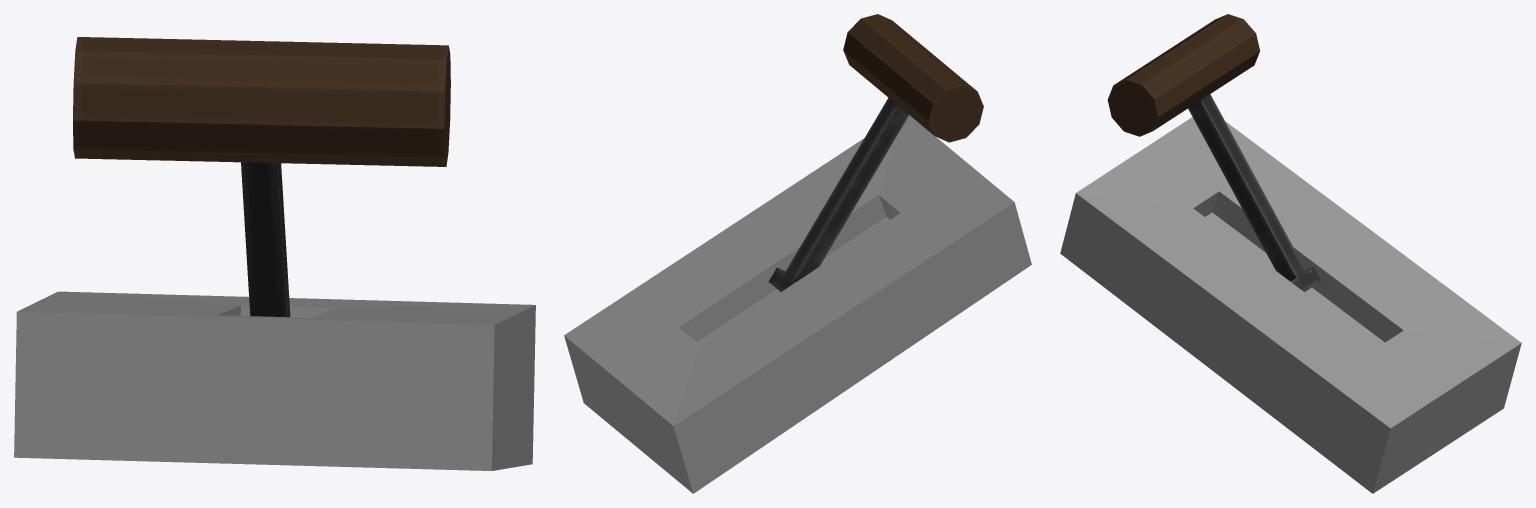
File: lever.fbx
3 views of the same model, side by side, from view 1: azimuth 30°, elevation 25°; view 2: azimuth 150°, elevation 25°; view 3: azimuth 270°, elevation 25° (orthographic). The views are drawn at different scales.
Parts seen in each view (by area): view 1: Cube.058, Cube.059; view 2: Cube.058, Cube.059; view 3: Cube.058, Cube.059.
Boxes of the visible parts, left/top/right/bottom form: Cube.058: left=14, top=291, right=535, bottom=470; Cube.059: left=73, top=37, right=450, bottom=317; Cube.058: left=564, top=115, right=1031, bottom=493; Cube.059: left=768, top=14, right=983, bottom=291; Cube.058: left=1060, top=117, right=1521, bottom=493; Cube.059: left=1107, top=14, right=1320, bottom=292.
Bounding box in the file's own units: 357 × 315 × 396.
Materials: 1 (1 with a texture image).
